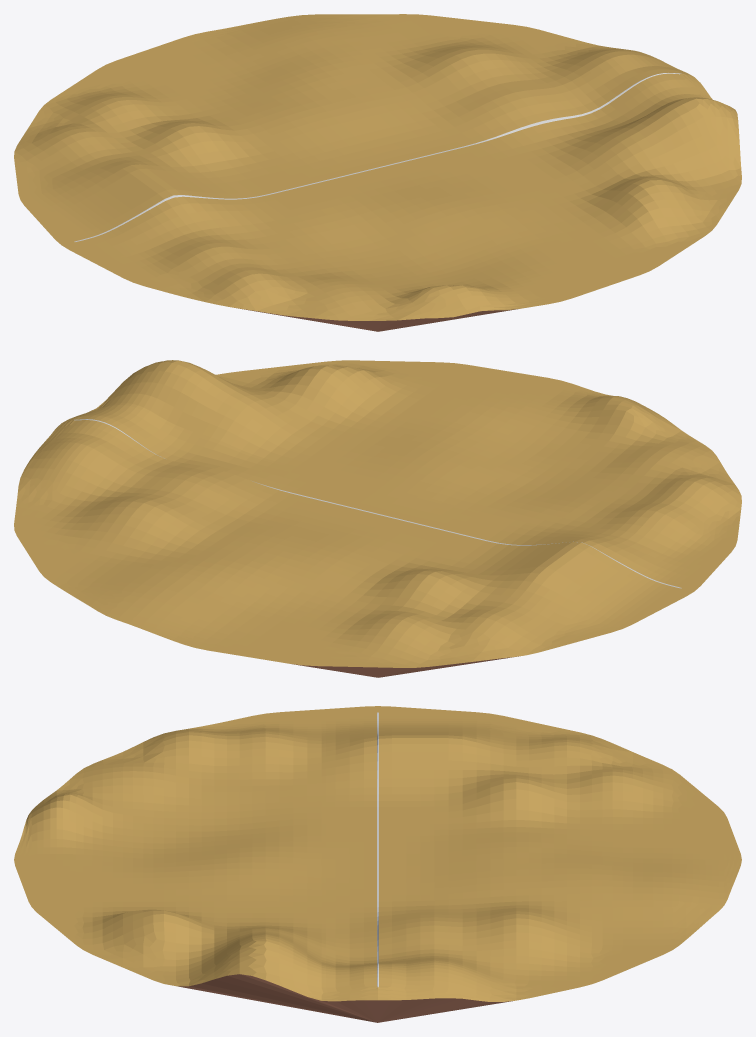
File: round environment.fbx
3 renders of one model, top to bottom at view 1: azimuth 30°, elevation 25°; view 2: azimuth 150°, elevation 25°; view 3: azimuth 270°, elevation 25°, orthographic.
Visible parts, largest first — view 1: Desert; view 2: Desert; view 3: Desert.
Part boxes in pixels (x1=…): Desert: x1=14, y1=14, x2=741, y2=331; Desert: x1=14, y1=360, x2=741, y2=677; Desert: x1=14, y1=706, x2=741, y2=1022.
Size of the model in its own units: 15.95 by 5.05 by 15.95.
